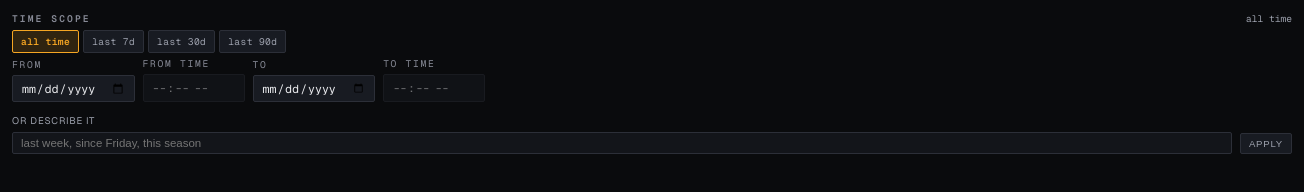
Test case: NarrowTimeScope date phrases › clears a stale refusal once a phrase reads
The image size is (1304, 192).
Type "recently" into the field labelled "Or describe it" at point(622, 143), box [12, 132, 1232, 154]
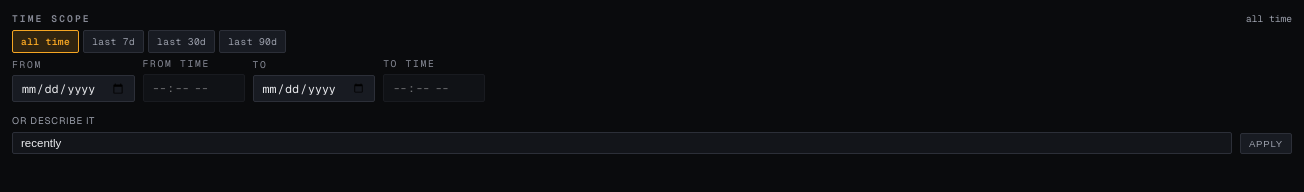
Click the button "Apply" at point(1266, 144), box [1240, 133, 1292, 154]
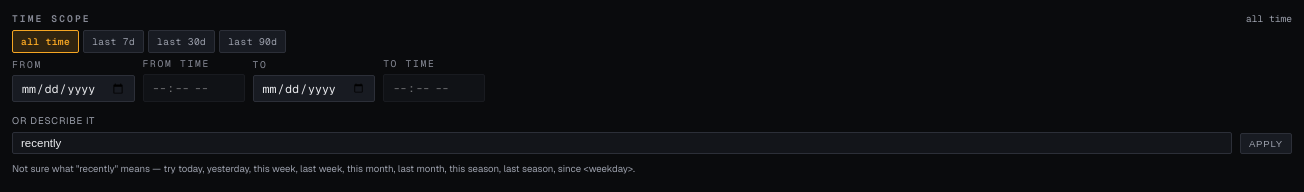
Expected: the text "Not sure what" is shown, [12, 162, 635, 175]
Replace the text in the field labelled "Or describe it" with "today" at point(622, 143), box [12, 132, 1232, 154]
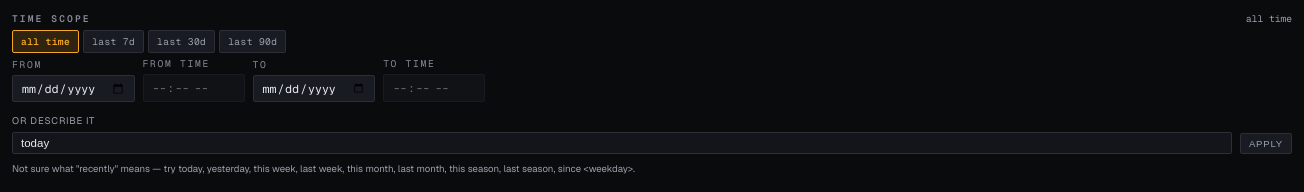
Click the button "Apply" at point(1266, 144), box [1240, 133, 1292, 154]
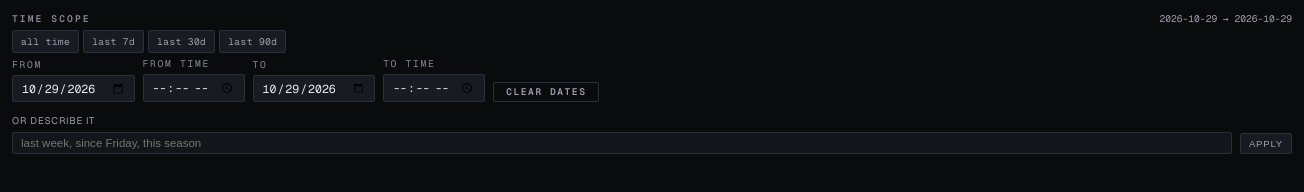
Expected: the text "Not sure what" is not shown
